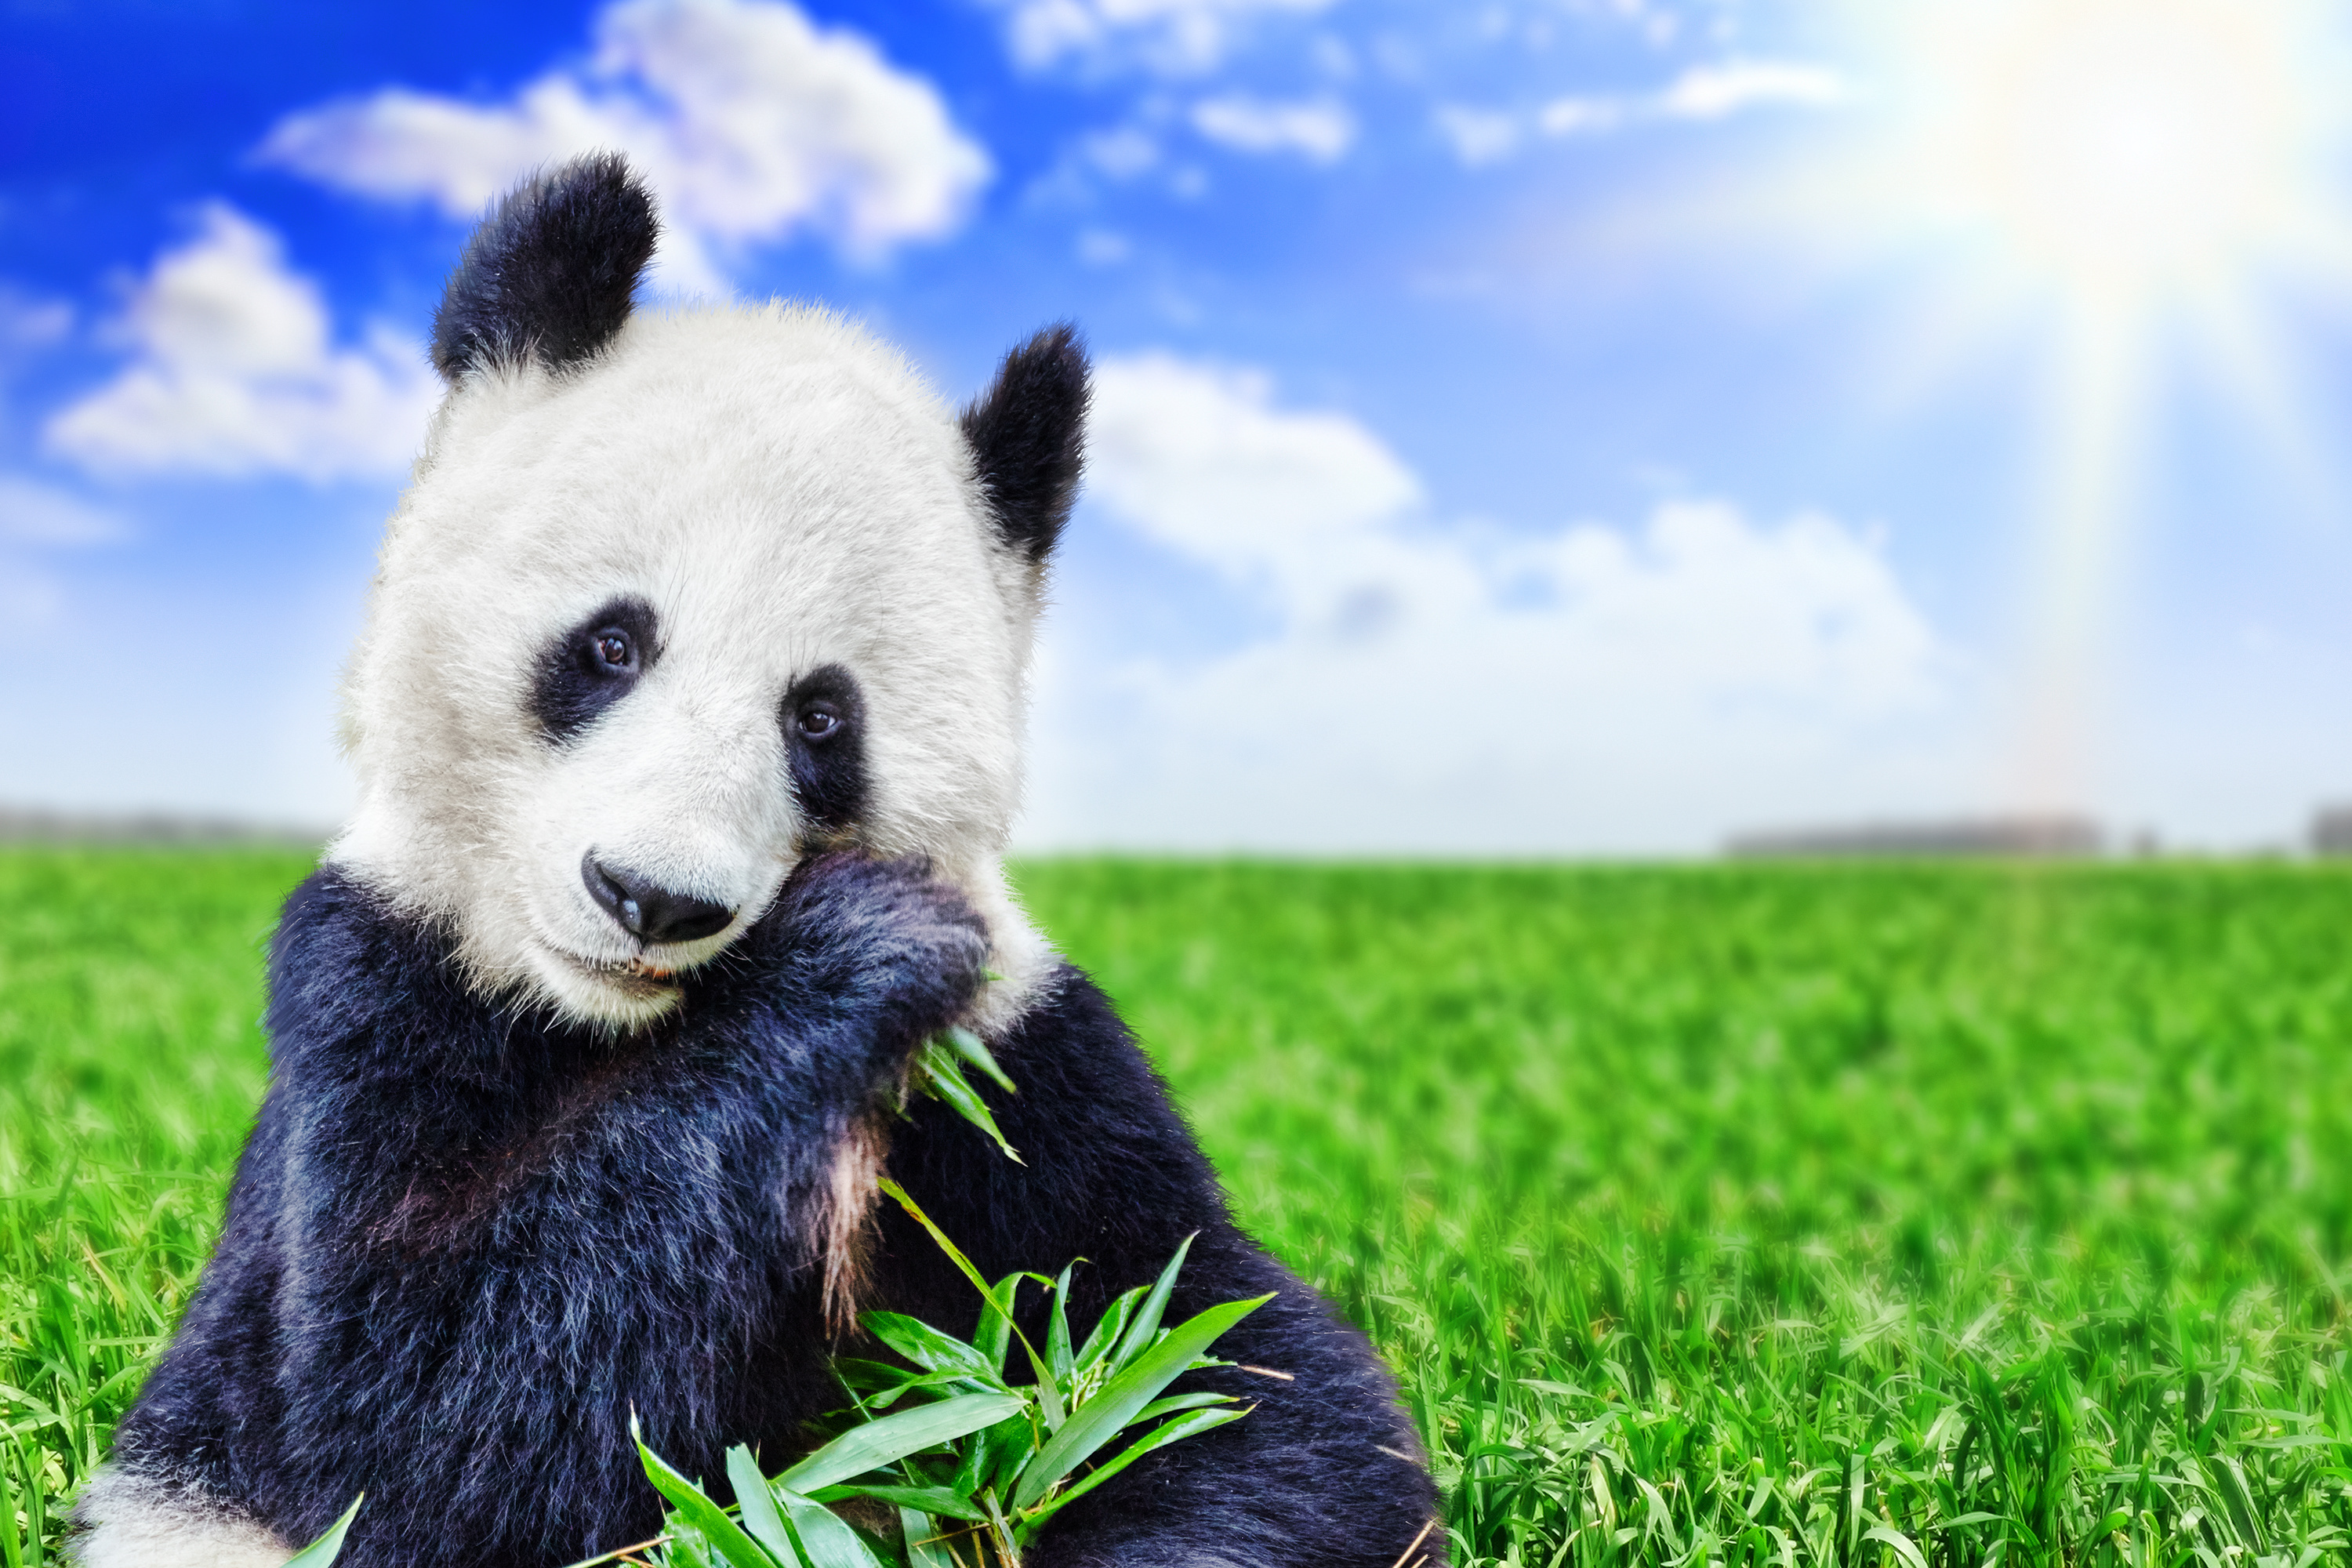panda: (161, 170, 1440, 1542)
